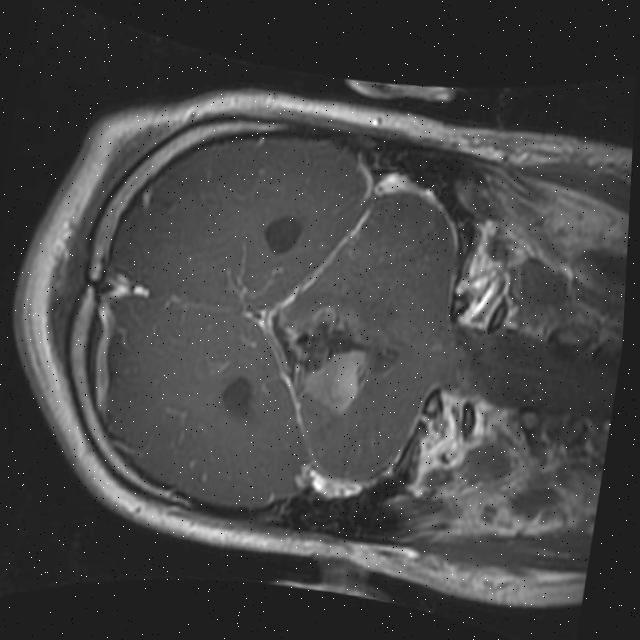Glioma: (295, 340, 372, 418)
